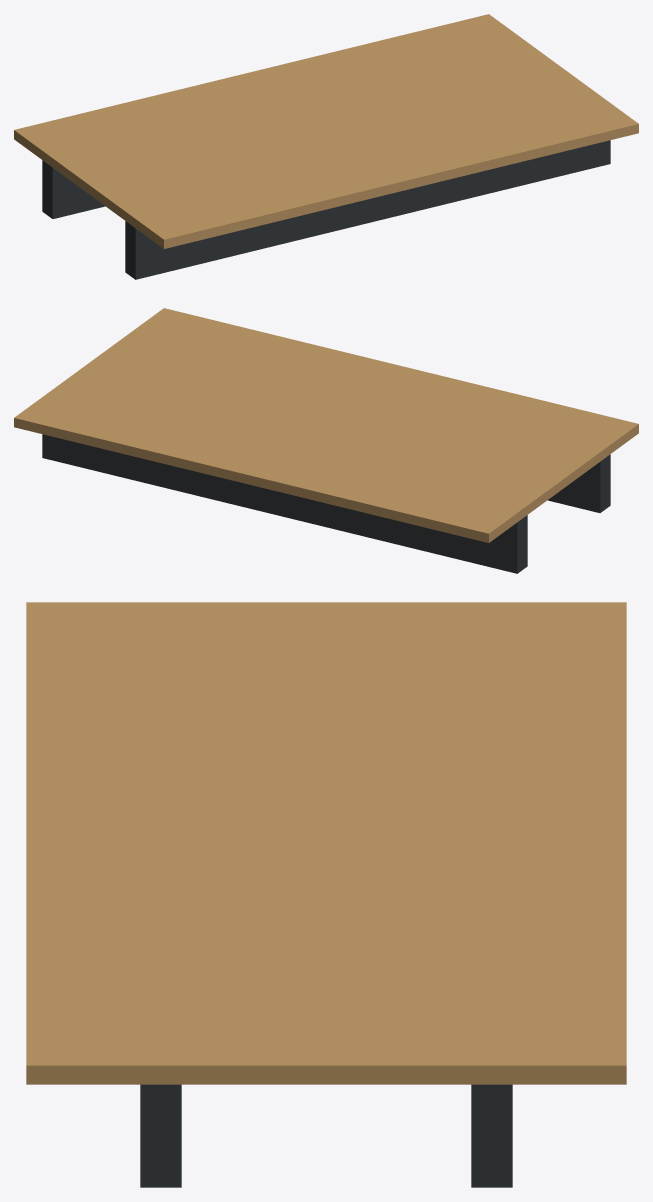
File: hoist_deck_floor.glb
3 views of the same model, one above another, from view 1: azimuth 30°, elevation 25°; view 2: azimuth 150°, elevation 25°; view 3: azimuth 270°, elevation 25° (orthographic). The views are drawn at different scales.
Visible parts, largest first — view 1: body:compound; view 2: body:compound; view 3: body:compound.
Boxes of the visible parts, left/top/right/bottom form: body:compound: left=14, top=14, right=638, bottom=279; body:compound: left=14, top=308, right=638, bottom=573; body:compound: left=26, top=602, right=626, bottom=1187.
Size of the model in its own units: 3.31 by 0.4062 by 1.81.
